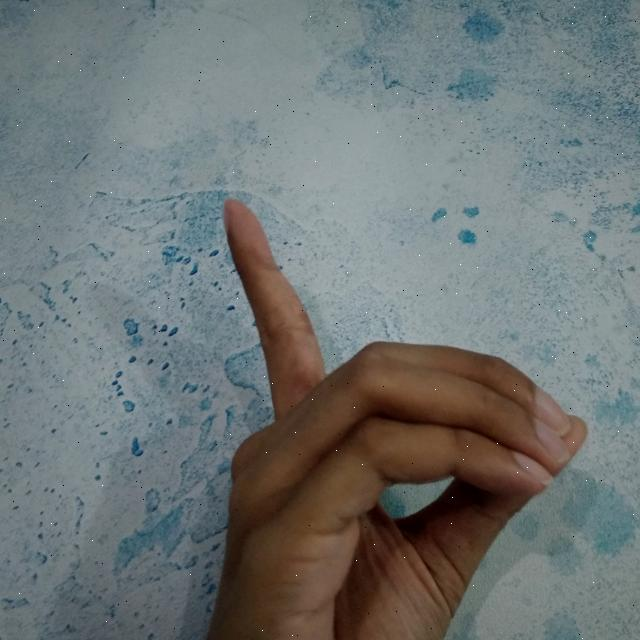D: (198, 199, 590, 640), (210, 197, 589, 640)
